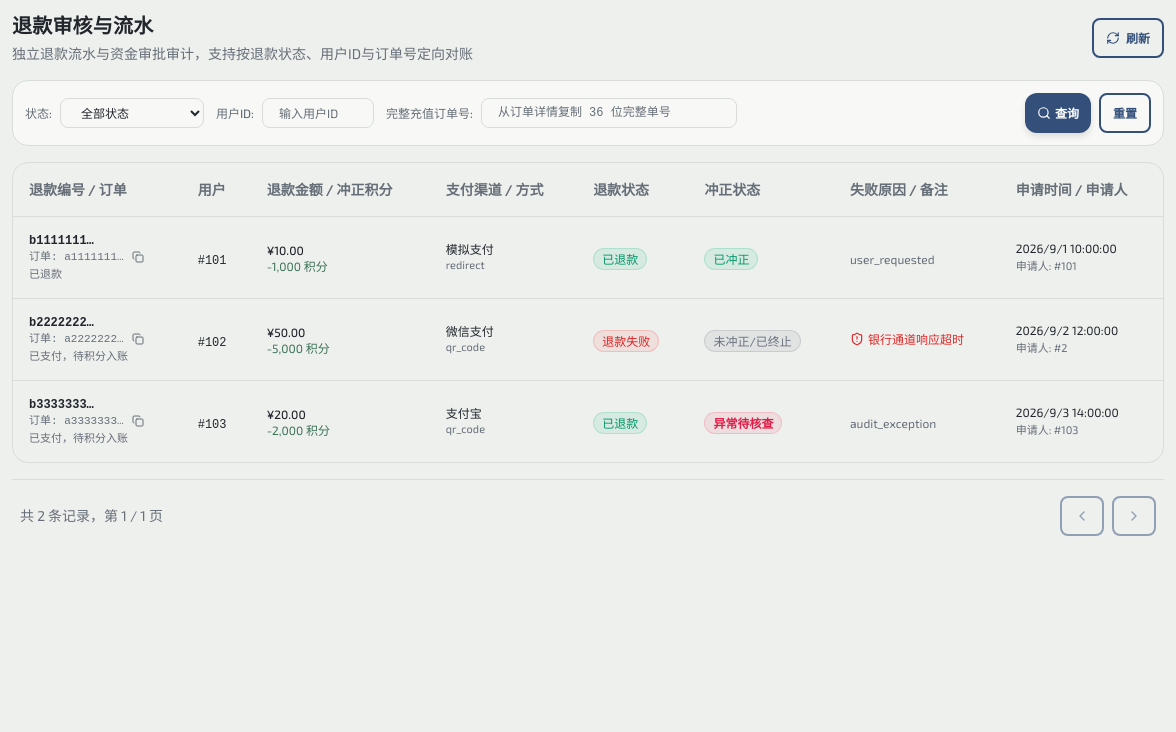
it: AdminRefundAuditPanel › resets filters and re-queries page 1 on reset button click
Expected: the table with test id "admin-refund-table" is shown, top-left (13, 163), bottom-right (1163, 462)
// Enter values
Select "退款失败" in the dropdown with test id "admin-refund-status-filter" at [132, 113], box top-left (60, 98), bottom-right (204, 128)
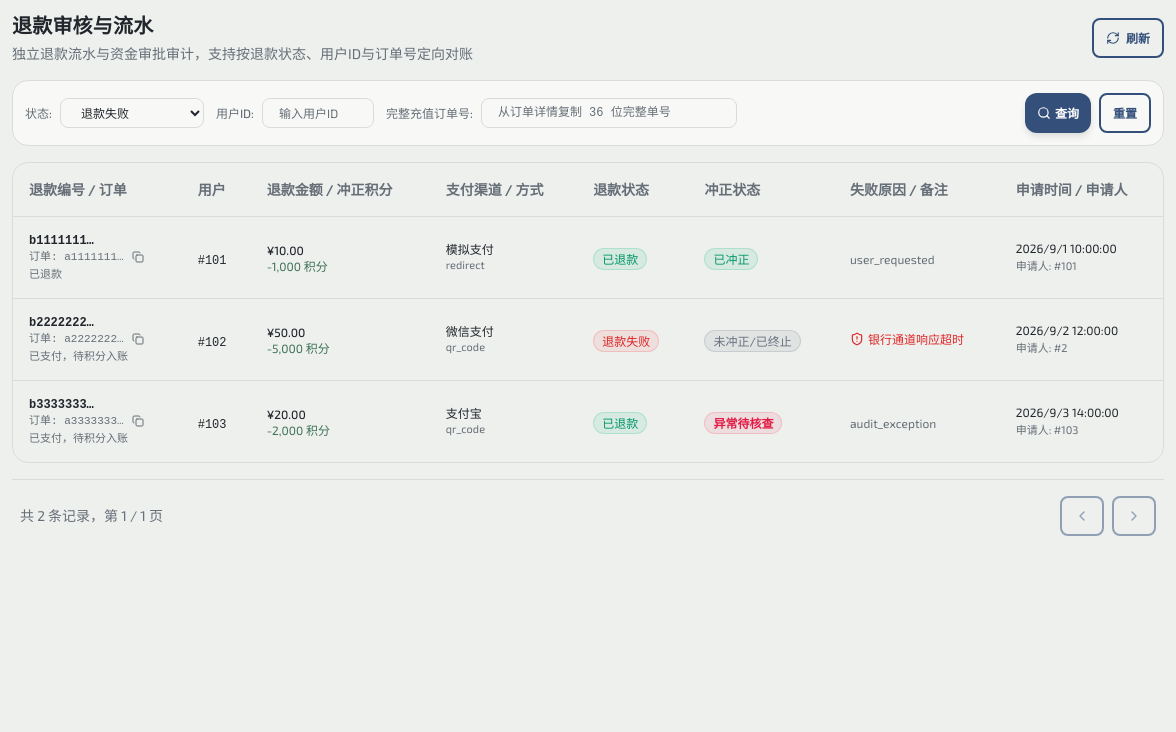
Type "999" into the number field with test id "admin-refund-user-id-filter" at [318, 113], box top-left (262, 98), bottom-right (374, 128)
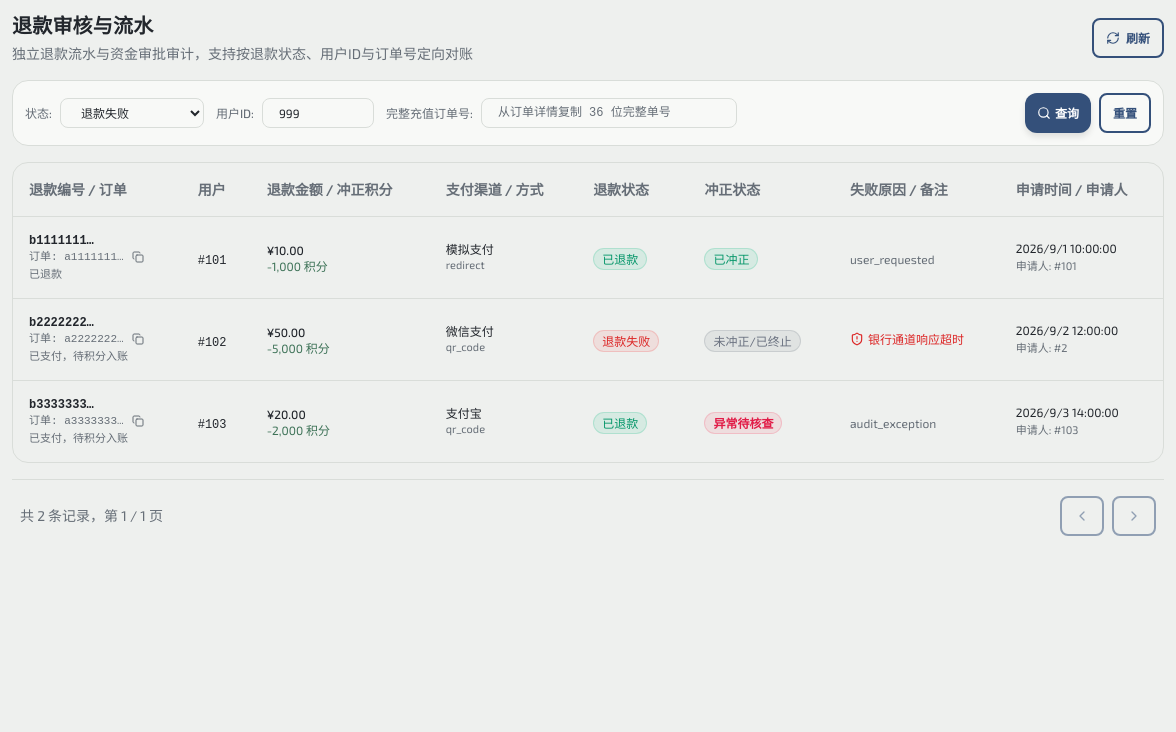
Type "a9999999-9999-4000-8000-000000000009" into the field with test id "admin-refund-order-id-filter" at [609, 113], box top-left (481, 98), bottom-right (737, 128)
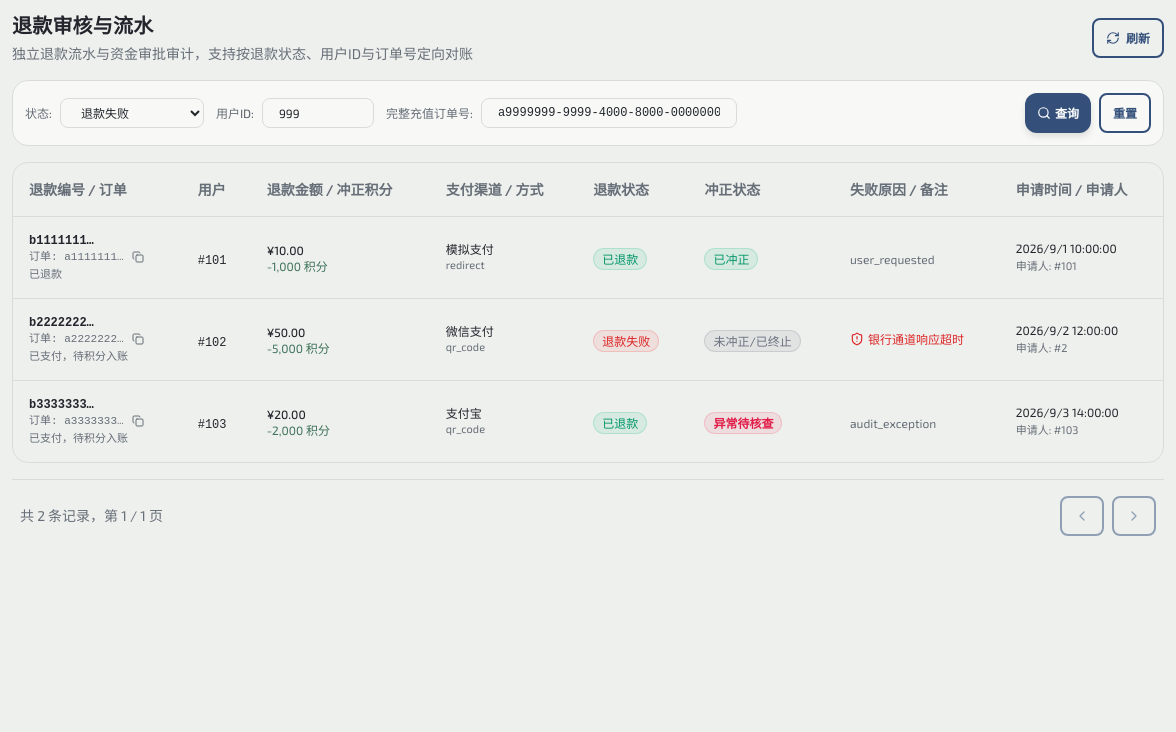
Click the button with test id "admin-refund-reset-button" at [1125, 113], box top-left (1099, 93), bottom-right (1151, 133)
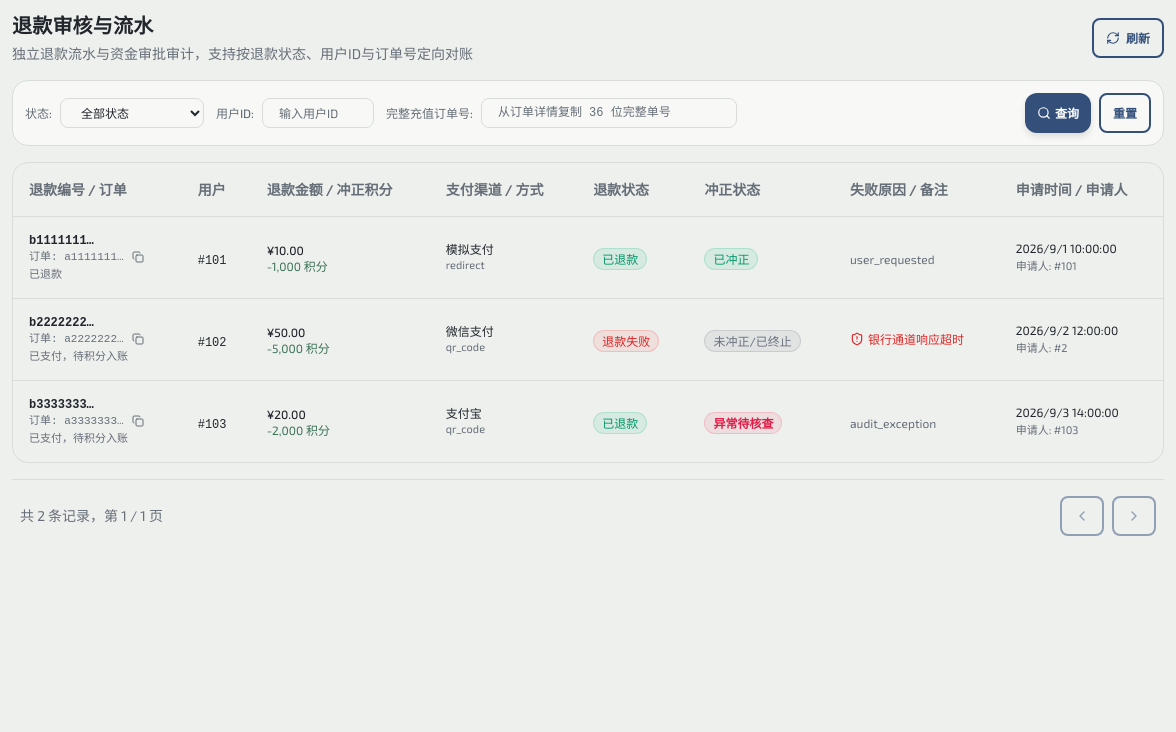
Expected: the number field with test id "admin-refund-user-id-filter" is not empty, top-left (262, 98), bottom-right (374, 128)
Expected: the field with test id "admin-refund-order-id-filter" is empty, top-left (481, 98), bottom-right (737, 128)
